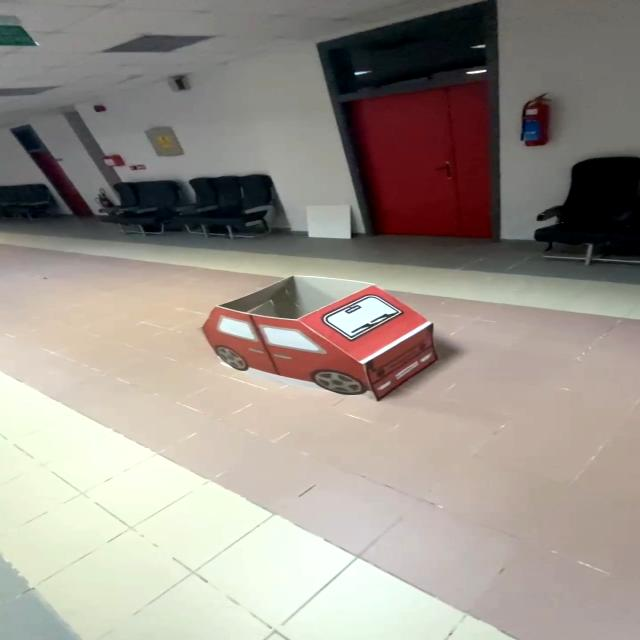red_car: (167, 269, 486, 422)
